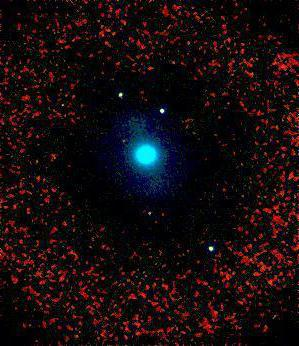star: (134, 196, 164, 226)
